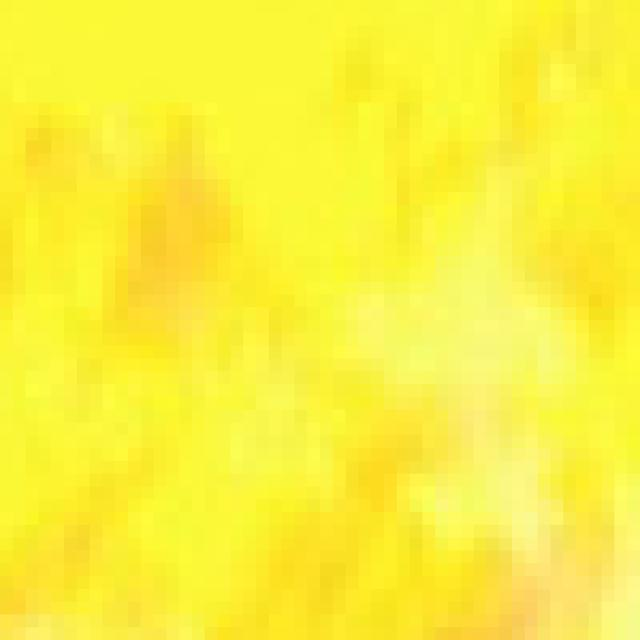fire: (3, 9, 634, 637)
